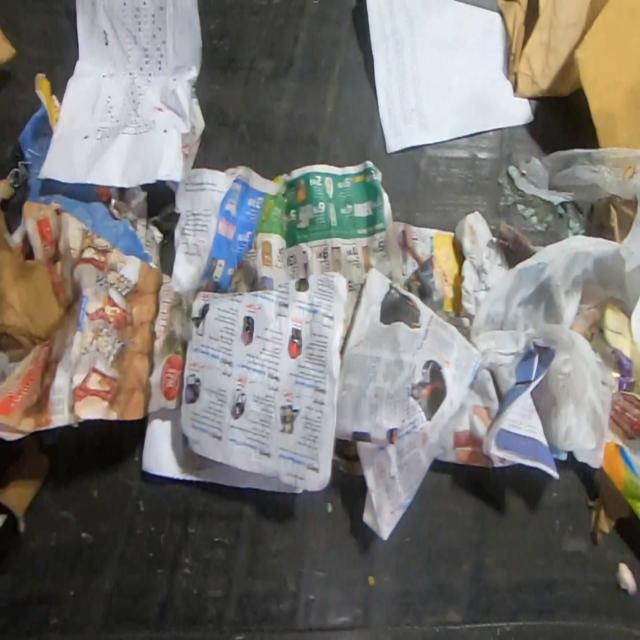cardboard: (496, 0, 606, 99), (0, 208, 66, 365), (572, 0, 640, 150), (0, 431, 52, 519)
soft_plastic: (468, 146, 640, 471)
